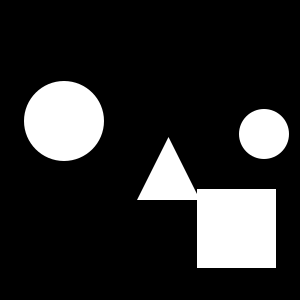circle: (197, 189, 276, 268)
rectangle: (24, 81, 104, 161), (239, 109, 289, 159)
triangle: (137, 137, 200, 200)
